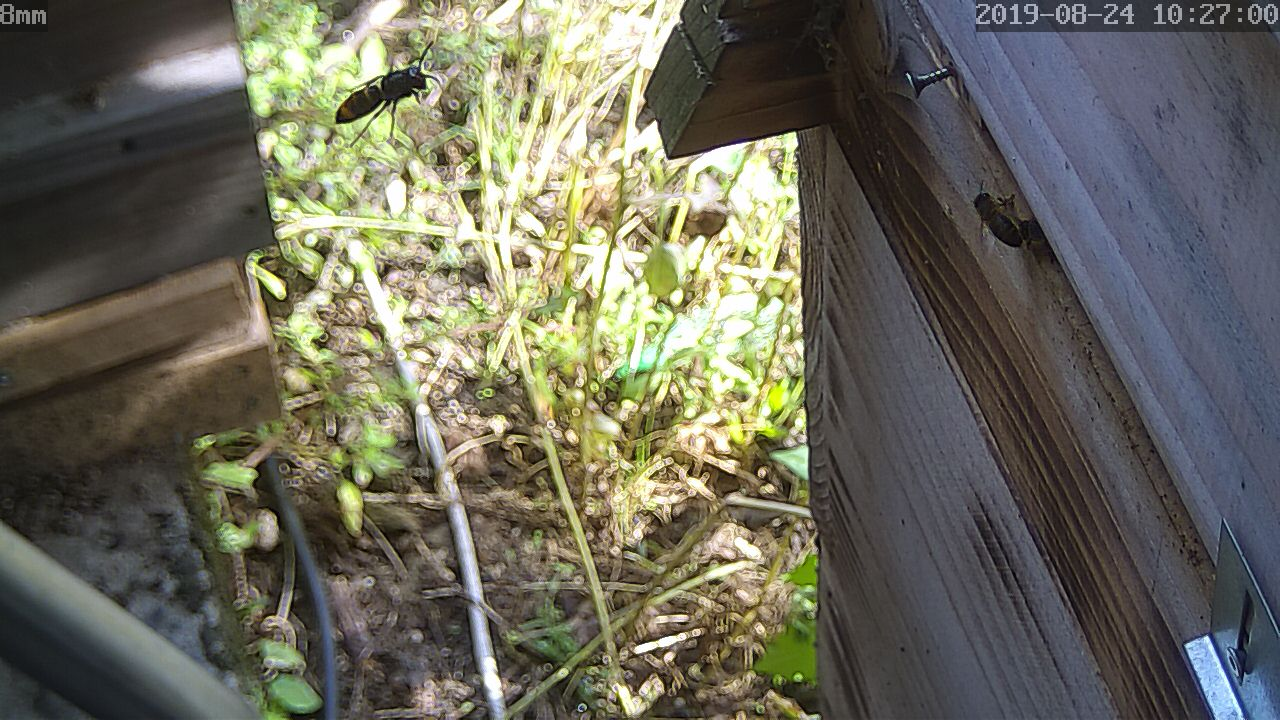bee: (959, 189, 1029, 255)
hornet: (329, 52, 441, 131)
